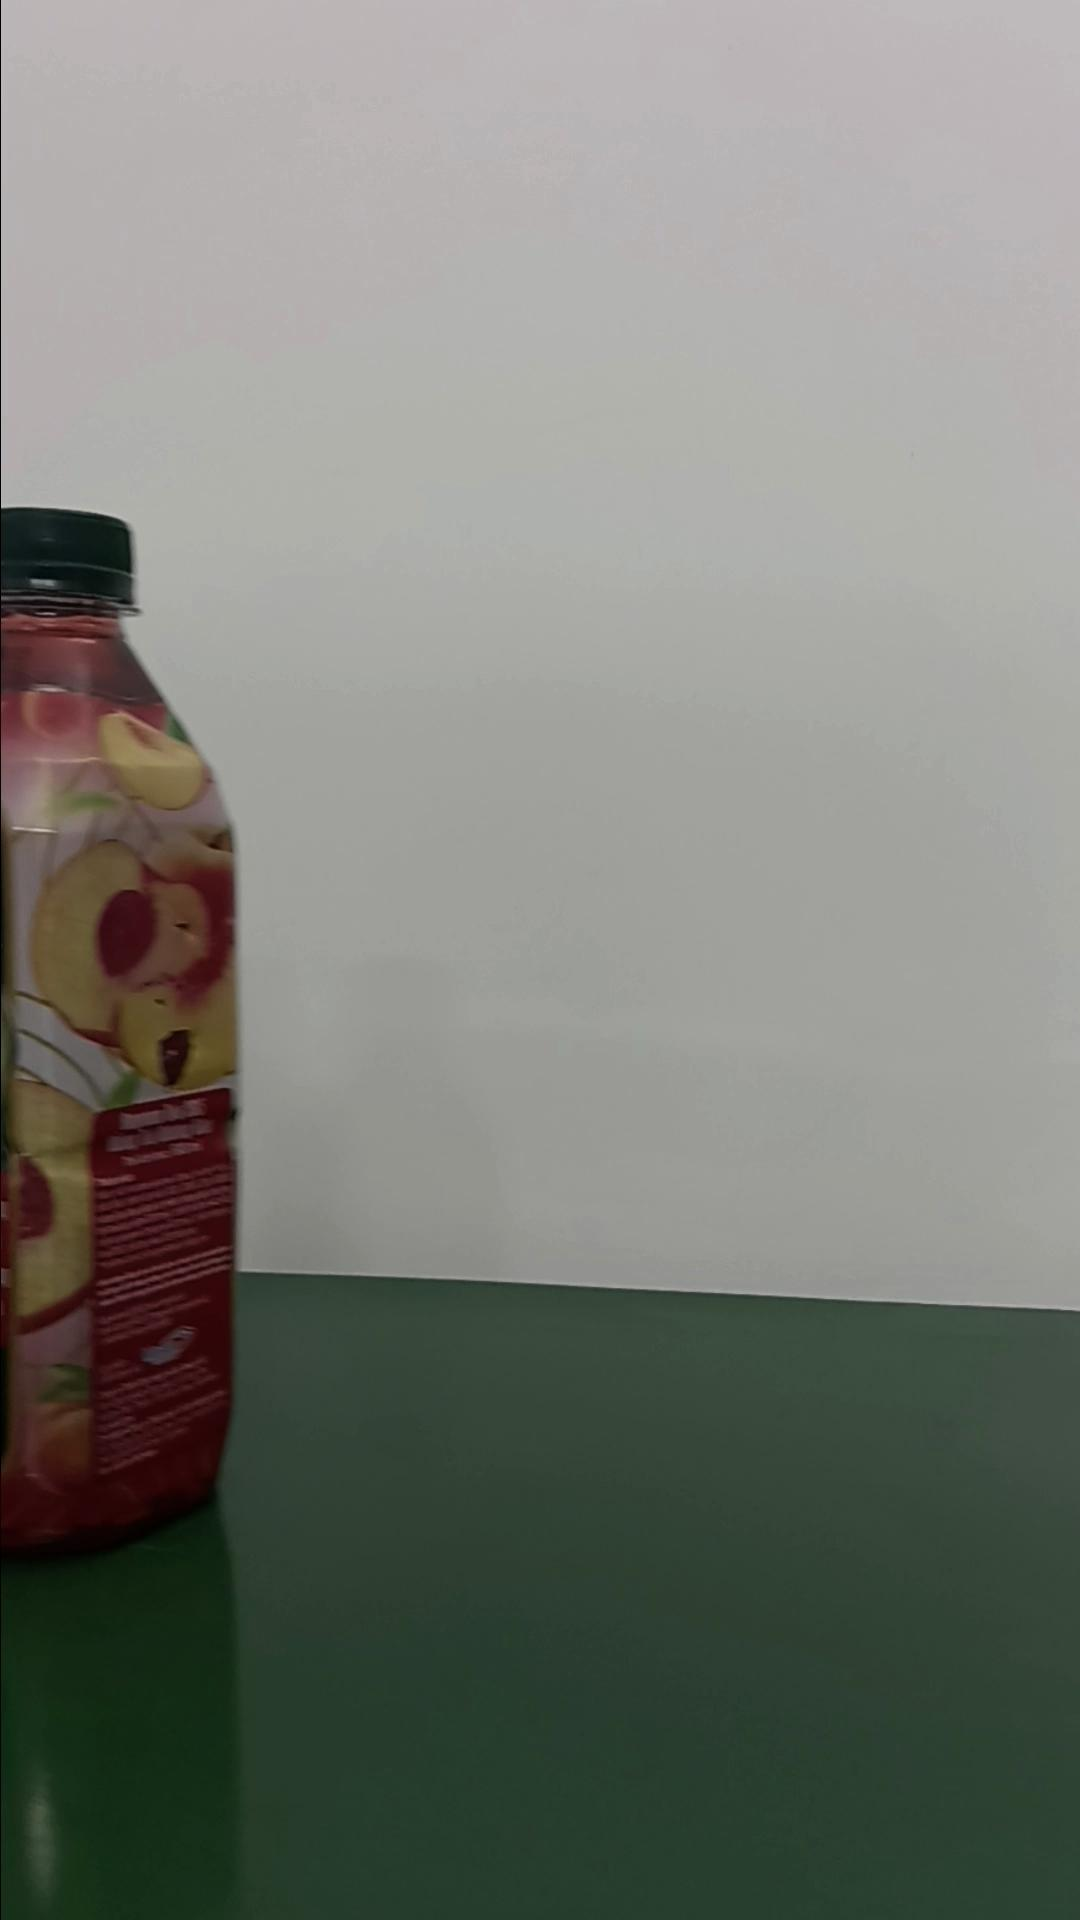loi rach va lap chai: (0, 495, 241, 1571)
